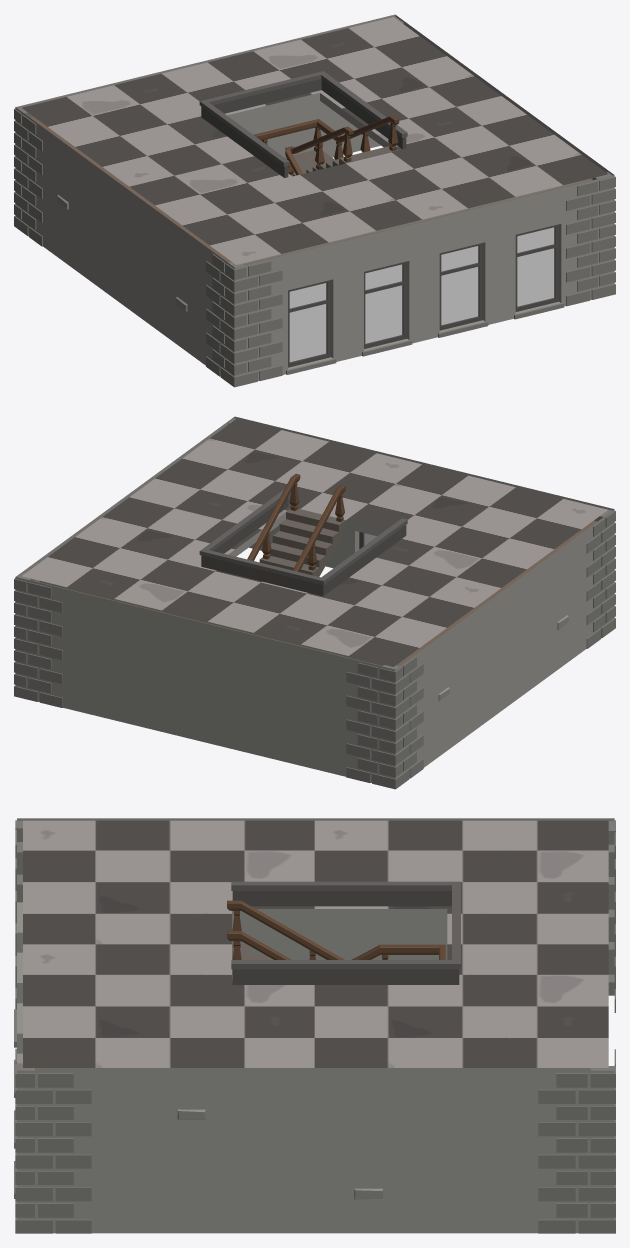
File: SM_Bldg_City_High-Rise_05_Mid_02.fbx
3 renders of one model, top to bottom at view 1: azimuth 30°, elevation 25°; view 2: azimuth 150°, elevation 25°; view 3: azimuth 270°, elevation 25°, orthographic. The views are drawn at different scales.
Visible parts, largest first — view 1: SM_Bldg_City_High-Rise_05_Mid_02, SM_Bldg_City_High-Rise_05_Mid_02_Glass; view 2: SM_Bldg_City_High-Rise_05_Mid_02; view 3: SM_Bldg_City_High-Rise_05_Mid_02.
Part boxes in pixels (<box>): SM_Bldg_City_High-Rise_05_Mid_02: <box>14,14,615,387</box>; SM_Bldg_City_High-Rise_05_Mid_02_Glass: <box>289,227,554,361</box>; SM_Bldg_City_High-Rise_05_Mid_02: <box>14,416,615,789</box>; SM_Bldg_City_High-Rise_05_Mid_02: <box>14,818,615,1233</box>.
Size of the model in its own units: 1008 by 384 by 1008.
